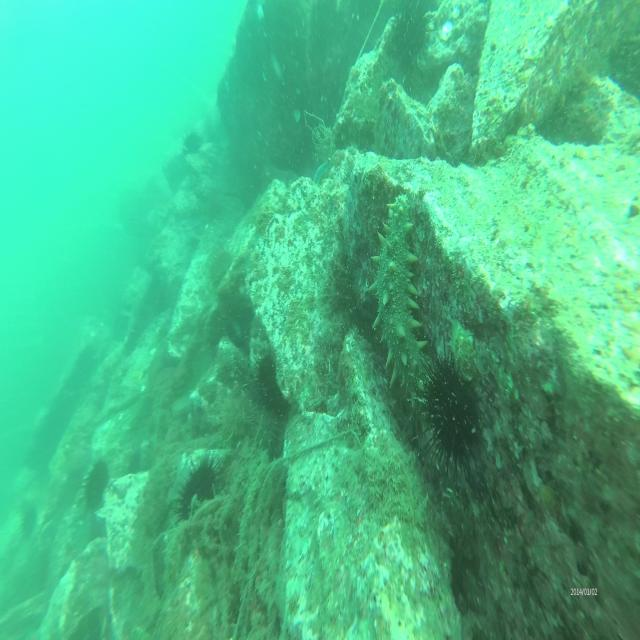echinus: (427, 356, 481, 482), (385, 4, 434, 88), (169, 461, 227, 525), (250, 347, 296, 423), (210, 382, 256, 450), (251, 401, 281, 459), (81, 460, 110, 510), (183, 125, 206, 156)
holothurian: (364, 190, 430, 417)
